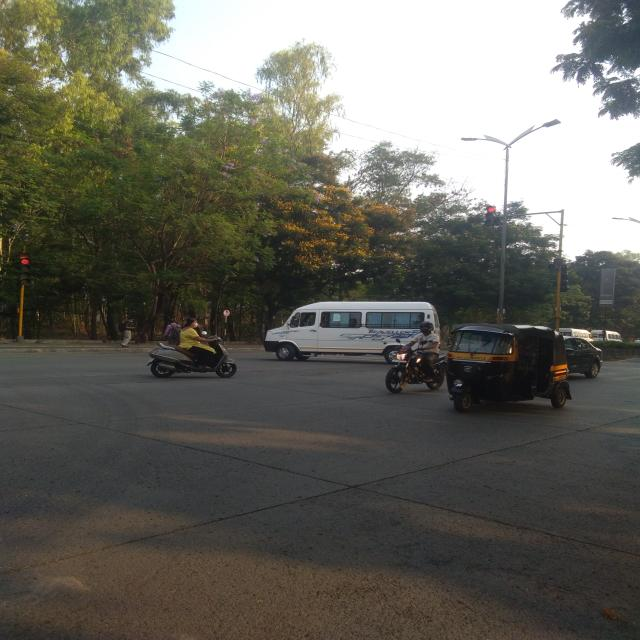Auto: (447, 324, 572, 412)
Traveller: (263, 301, 433, 364)
Two Wheeler: (147, 336, 237, 378), (385, 349, 448, 392)
